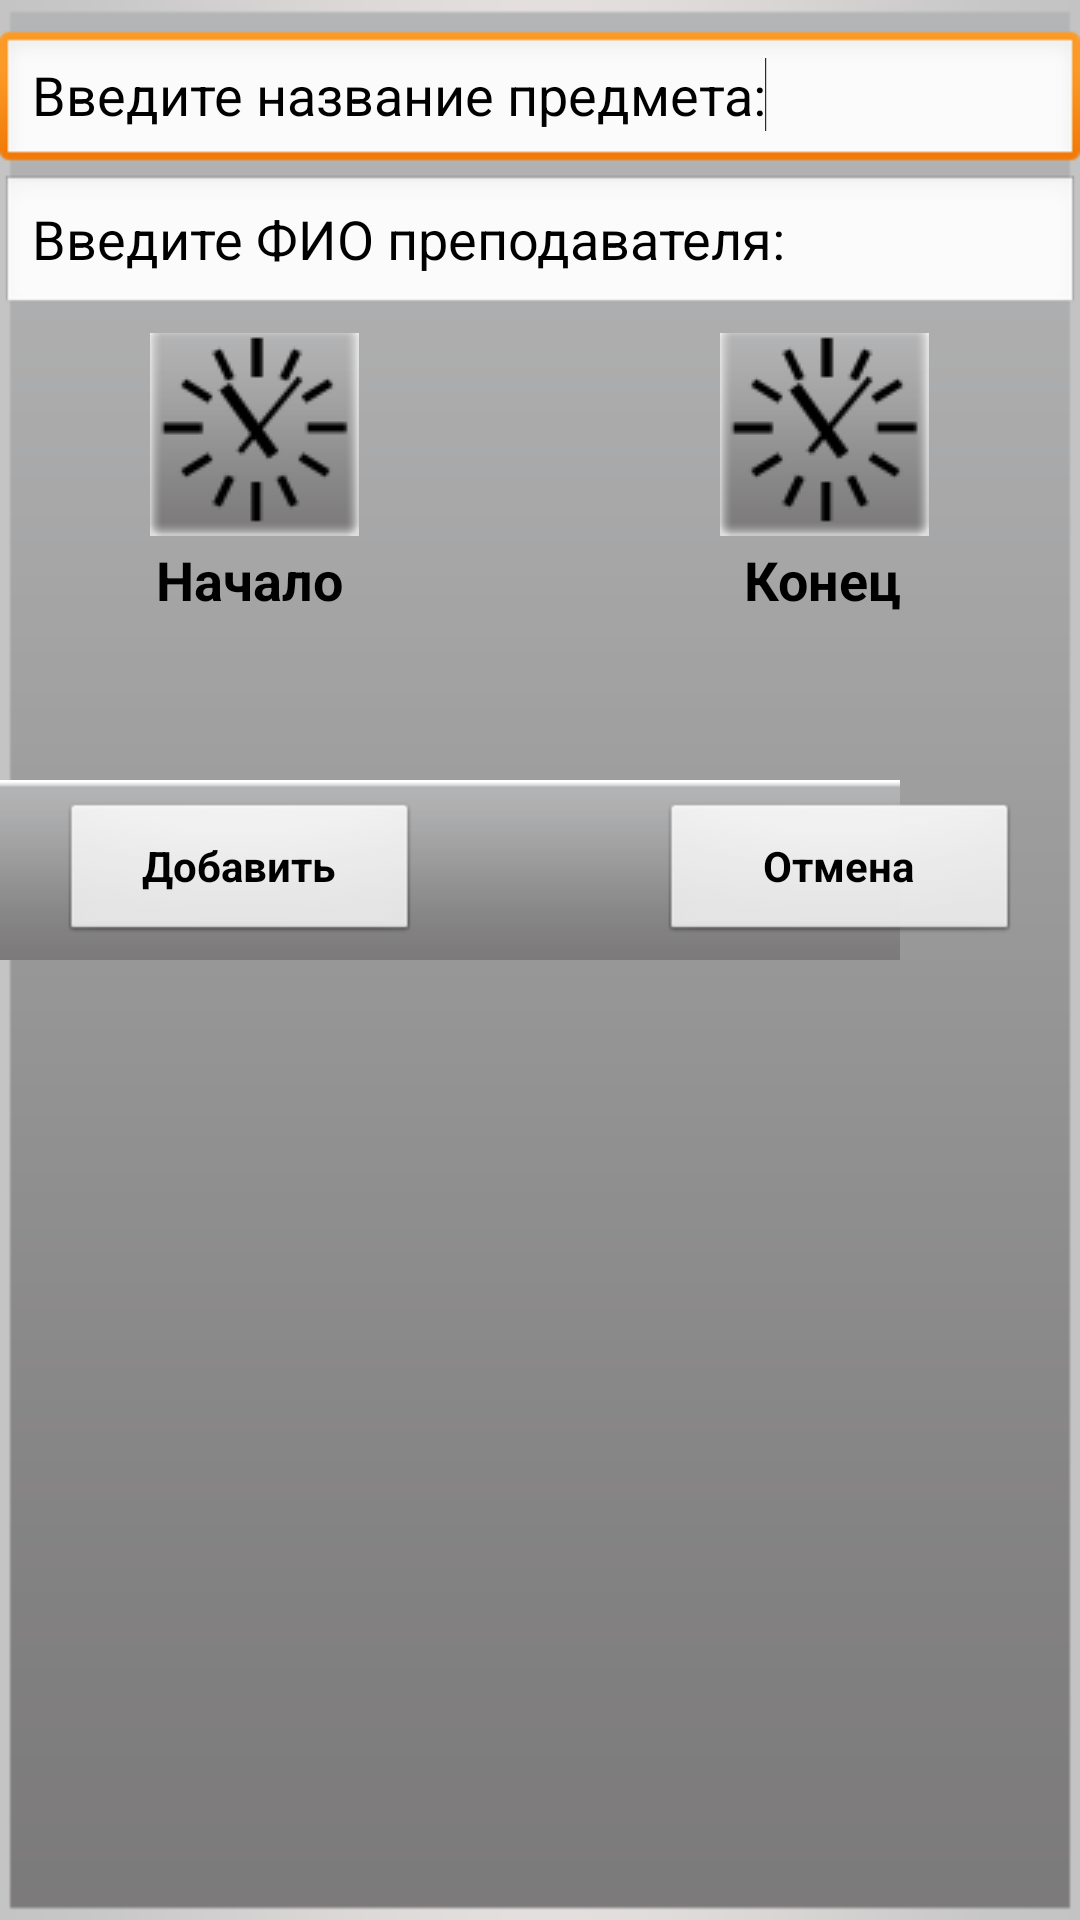

Icon bounding boxes for this 1080 × 1920 phone screenshot, format [x1, y1, x2, y2]:
time: [150, 333, 359, 536], [720, 333, 929, 536]
